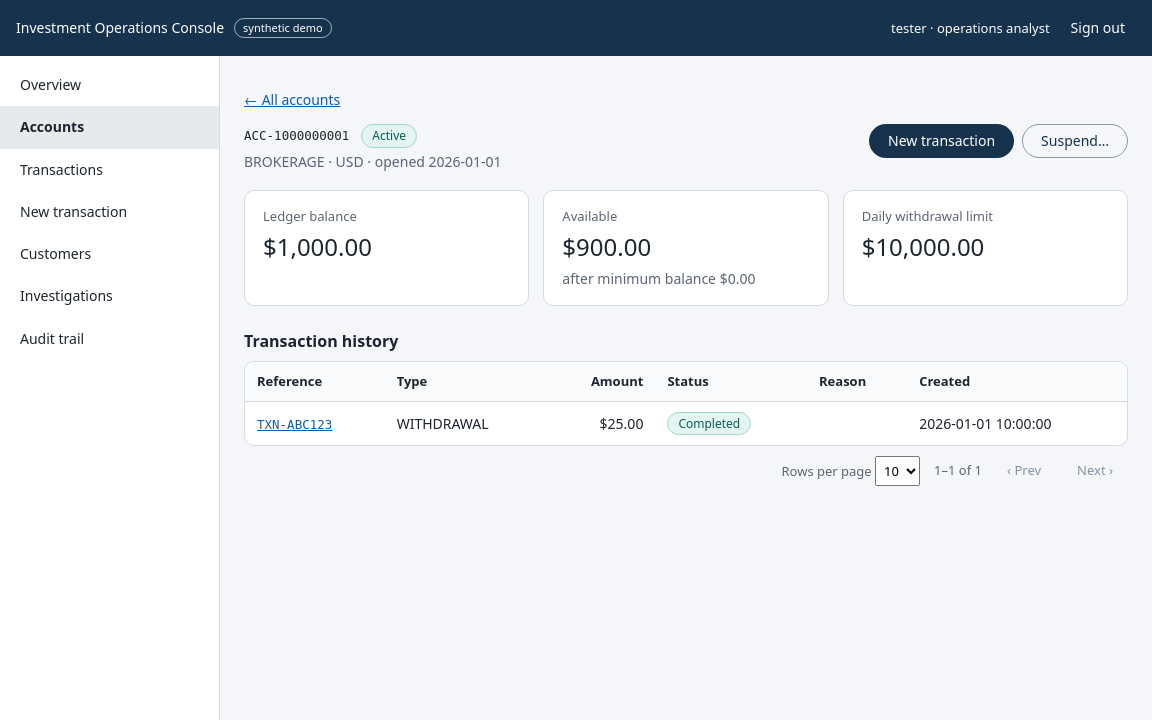
Scenario: Account detail › suspending requires a reason
Click the button "Suspend…". click: (1075, 141)
box: [1022, 124, 1128, 158]
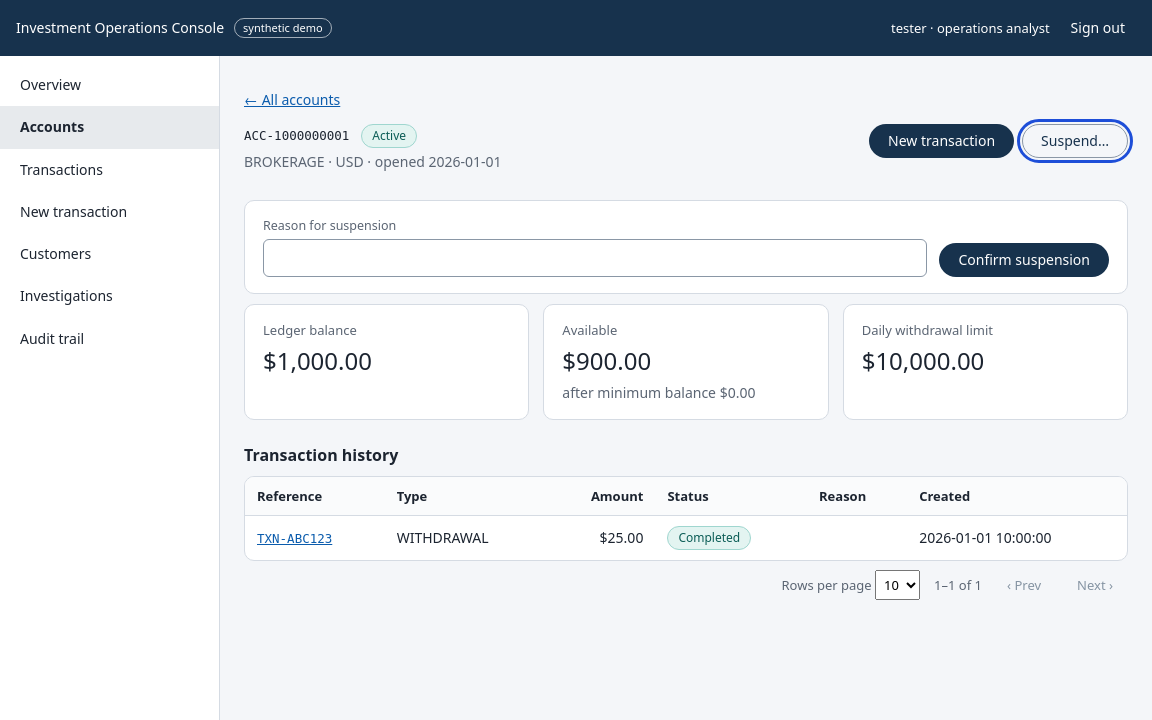
Click the button "Confirm suspension". click: (1024, 260)
box: [939, 243, 1109, 277]
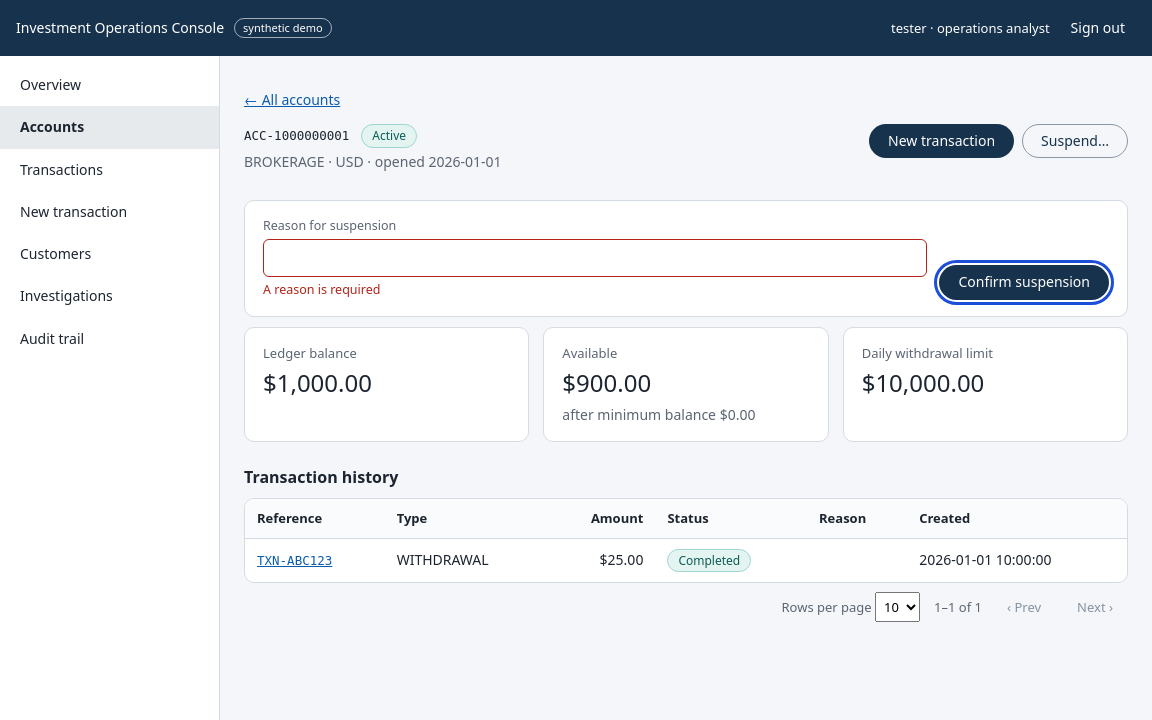
Check: the text "A reason is required" is shown, box [263, 281, 380, 298]
Type "fraud check" into the field labelled "Reason for suspension". click: (595, 258)
box: [263, 239, 927, 277]
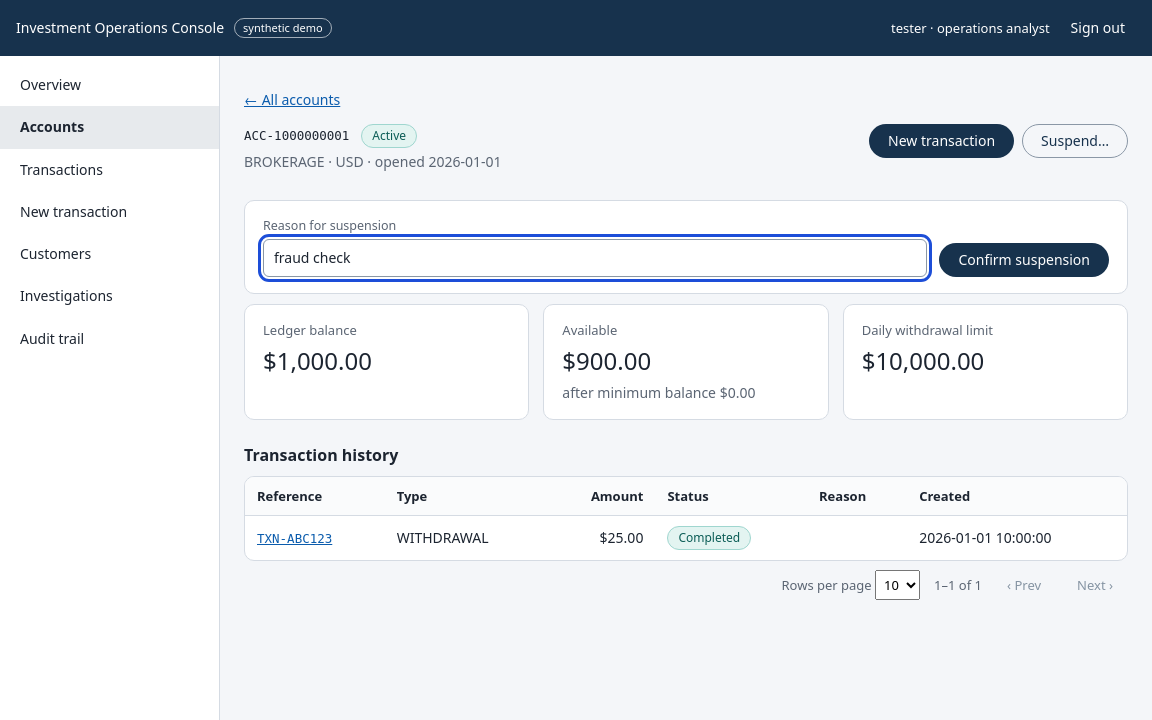
Click the button "Confirm suspension". click: (1024, 260)
box: [939, 243, 1109, 277]
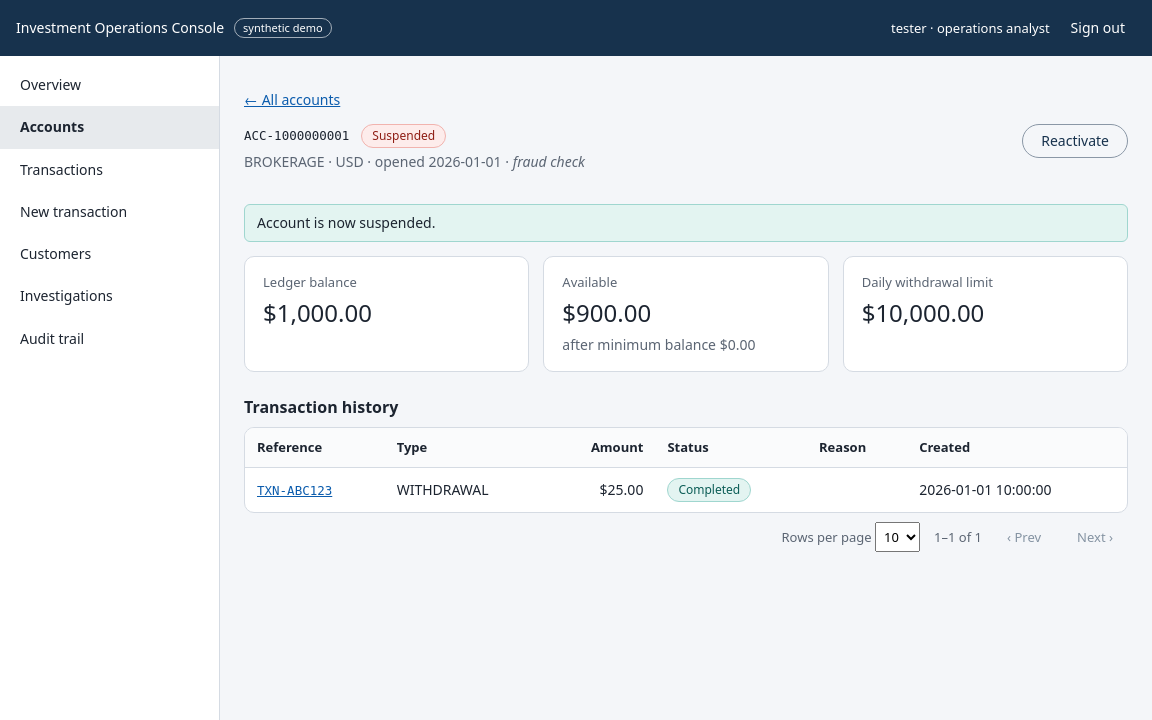
Check: the text "Account is now suspended." is shown, box [244, 204, 1128, 242]
